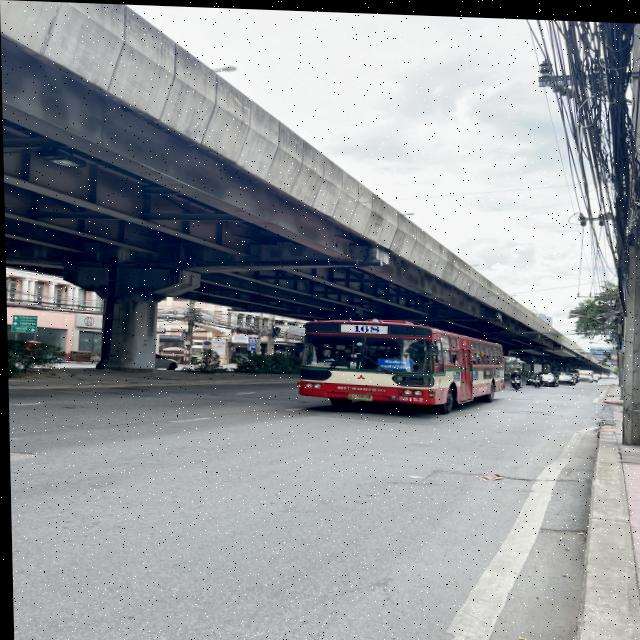BMTA-bus: (293, 315, 504, 413)
Bus-Line-Number: (340, 321, 388, 331)
Destination-Sign-Normal: (376, 355, 411, 367)
